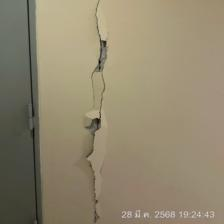High: (74, 1, 120, 224)
